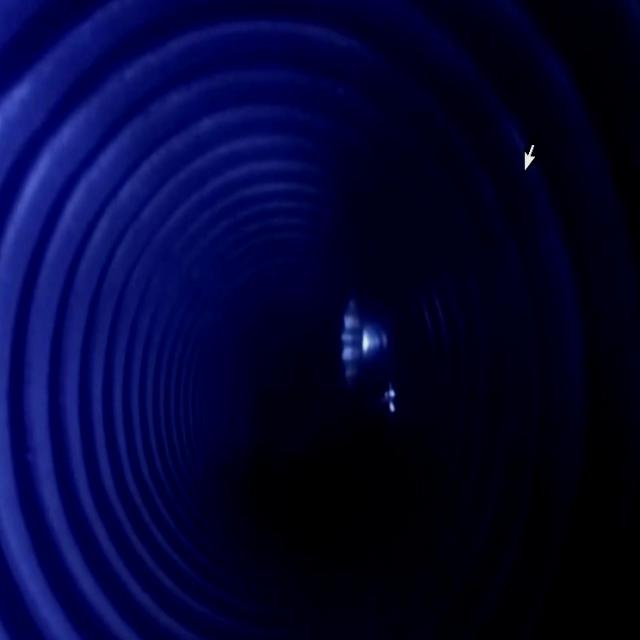metal piece: (341, 288, 401, 418)
